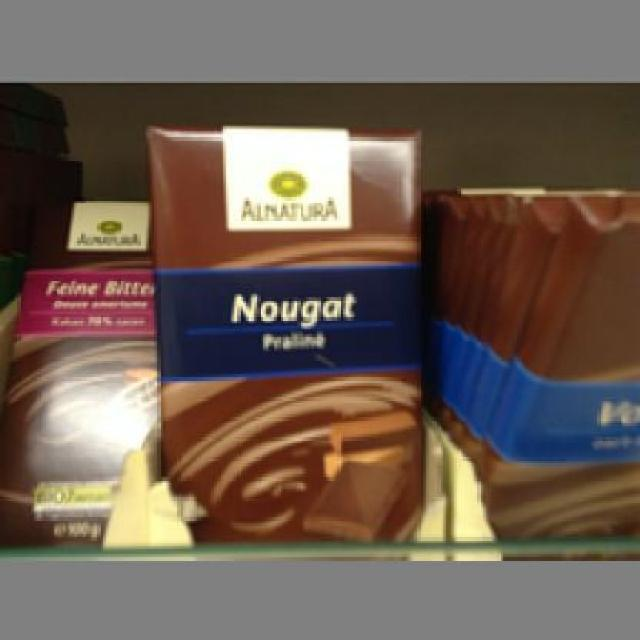Chocolate: (142, 123, 432, 543), (0, 194, 155, 540)
